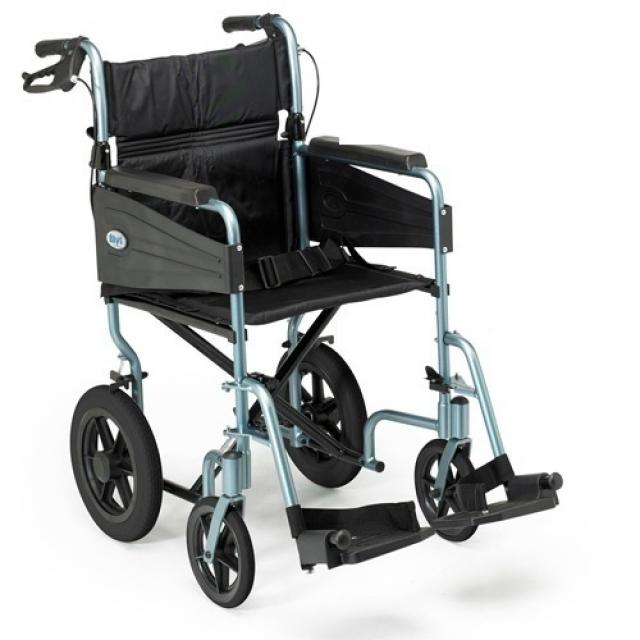wheelchair: (13, 7, 589, 613)
